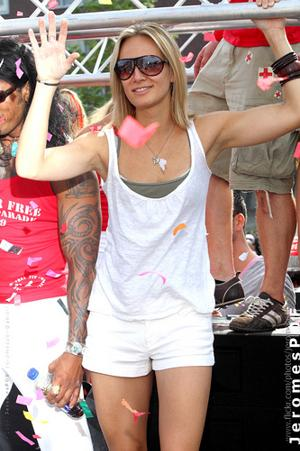person: (15, 1, 300, 451)
